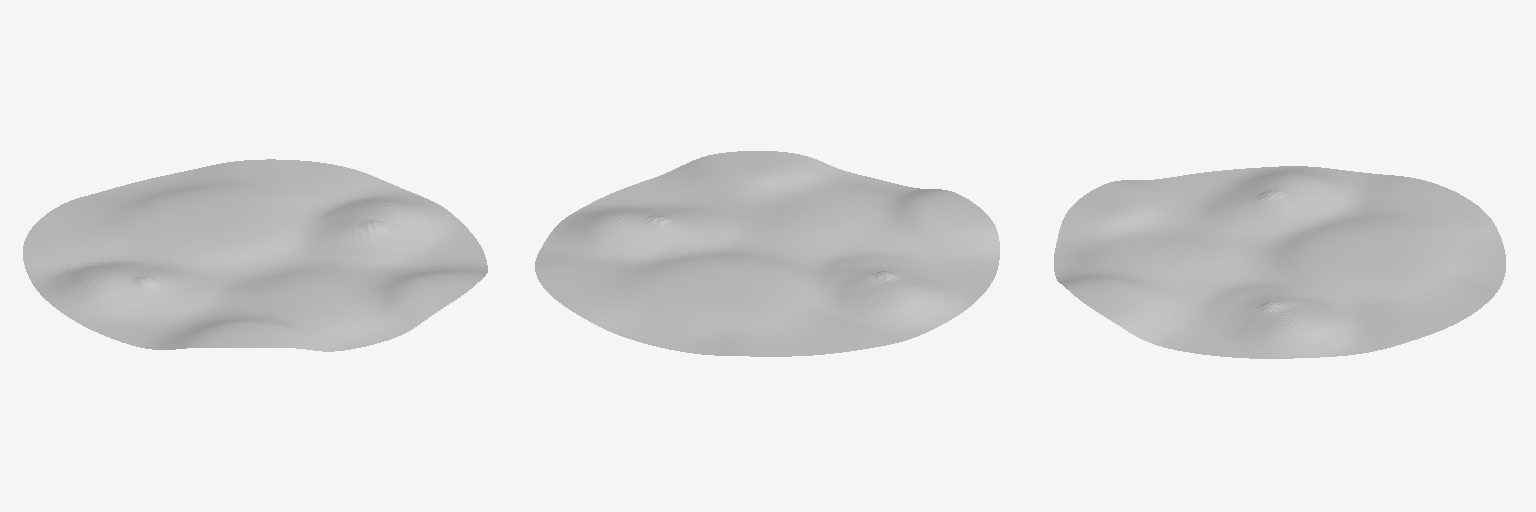
Rendered from plain_d.obj.
The picture shows the model from 3 angles: view 1: azimuth 30°, elevation 25°; view 2: azimuth 150°, elevation 25°; view 3: azimuth 270°, elevation 25°; orthographic projection.
Visible parts, largest first — view 1: bumpyArena2_Mesh; view 2: bumpyArena2_Mesh; view 3: bumpyArena2_Mesh.
Boxes of the visible parts, box(x1,y1,x2,y2) form: bumpyArena2_Mesh: box(23, 159, 487, 351); bumpyArena2_Mesh: box(535, 151, 999, 356); bumpyArena2_Mesh: box(1054, 166, 1505, 358).
Size of the model in its own units: 25.09 by 0.921 by 24.94.